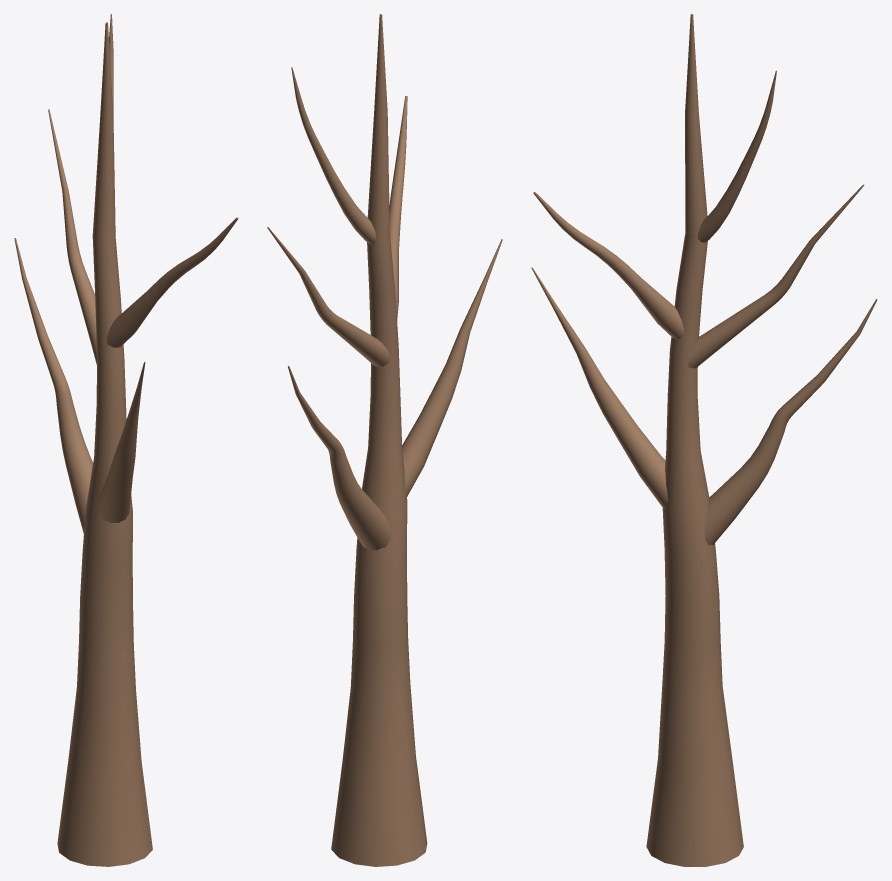
File: Arbol6.fbx
3 renders of one model, left to right at view 1: azimuth 30°, elevation 25°; view 2: azimuth 150°, elevation 25°; view 3: azimuth 270°, elevation 25°, orthographic.
Parts seen in each view (by area): view 1: Tree1_2; view 2: Tree1_2; view 3: Tree1_2.
Boxes of the visible parts, bbox=[...] form: Tree1_2: bbox=[14, 14, 238, 866]; Tree1_2: bbox=[267, 14, 502, 866]; Tree1_2: bbox=[531, 14, 877, 866].
Bounding box in the file's own units: 291 × 2399 × 904.
